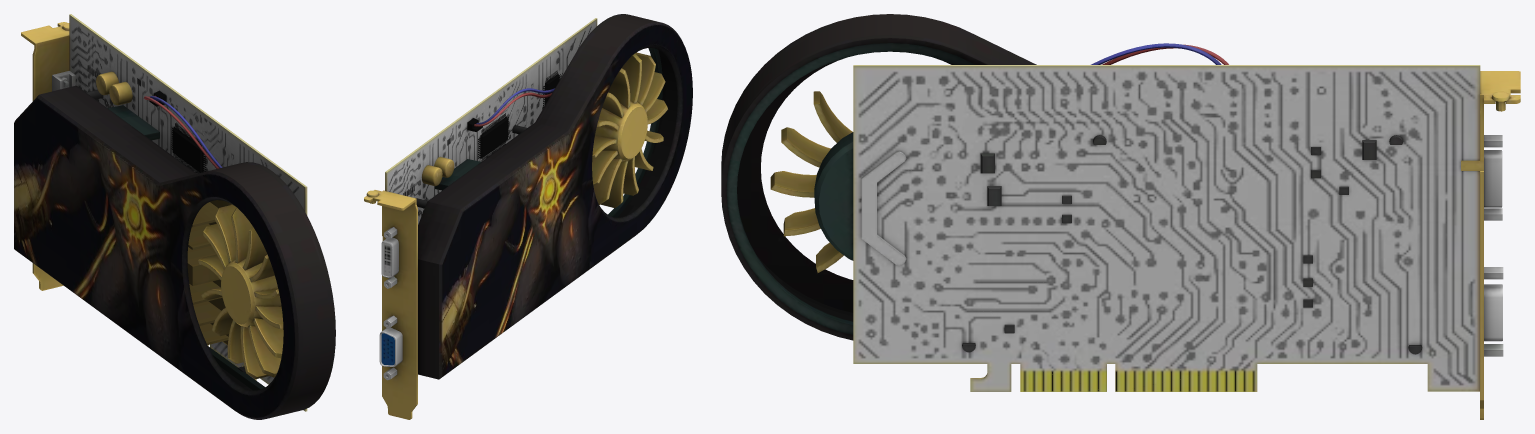
Rendered from GPU.glb.
3 renders of one model, left to right at view 1: azimuth 30°, elevation 25°; view 2: azimuth 150°, elevation 25°; view 3: azimuth 270°, elevation 25°, orthographic. The views are drawn at different scales.
Parts seen in each view (by area): view 1: vga_agp_g_vga_agp_g_0; view 2: vga_agp_g_vga_agp_g_0; view 3: vga_agp_g_vga_agp_g_0.
Part boxes in pixels (x1,y1,x2,y2): vga_agp_g_vga_agp_g_0: (14,14,335,419); vga_agp_g_vga_agp_g_0: (364,14,692,419); vga_agp_g_vga_agp_g_0: (721,14,1520,419).
Bounding box in the file's own units: 0.0312 × 0.1152 × 0.2241.
1 material, 1 textured.
